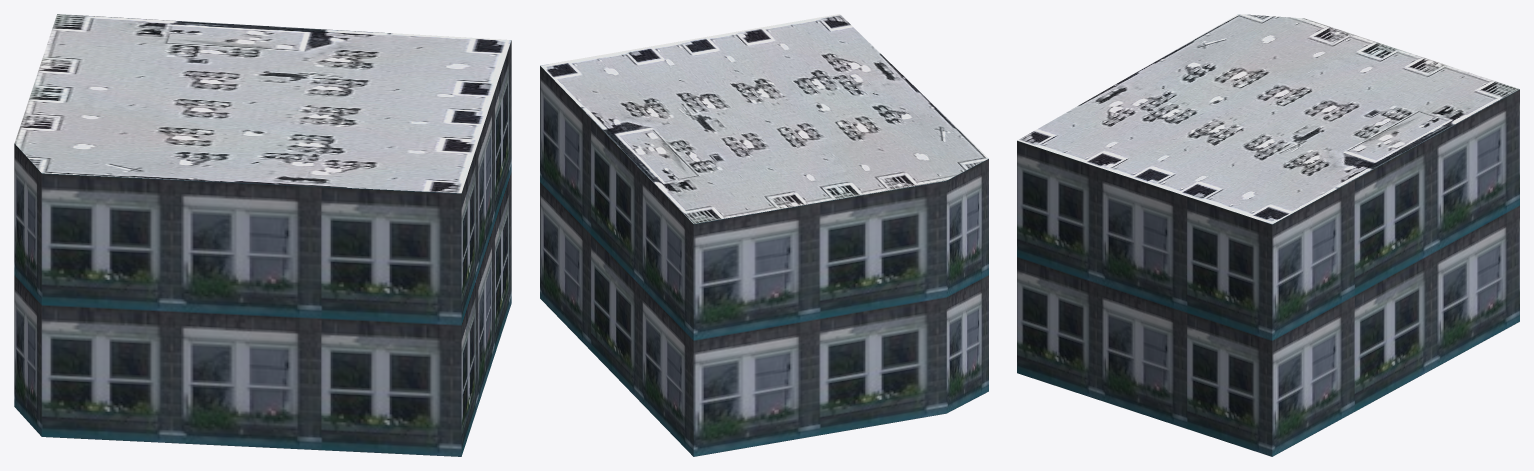
Rendered from ResTex__1077.fbx.
3 renders of one model, left to right at view 1: azimuth 30°, elevation 25°; view 2: azimuth 150°, elevation 25°; view 3: azimuth 270°, elevation 25°, orthographic. The views are drawn at different scales.
Visible parts, largest first — view 1: CityEngineMaterial_11_m, CityEngineMaterial_m; view 2: CityEngineMaterial_11_m, CityEngineMaterial_m; view 3: CityEngineMaterial_11_m, CityEngineMaterial_m.
Part boxes in pixels (<box>): CityEngineMaterial_11_m: <box>14,40,511,456</box>; CityEngineMaterial_m: <box>14,14,511,193</box>; CityEngineMaterial_11_m: <box>540,66,988,456</box>; CityEngineMaterial_m: <box>540,14,988,223</box>; CityEngineMaterial_11_m: <box>1017,89,1519,456</box>; CityEngineMaterial_m: <box>1017,14,1519,224</box>.
Bounding box in the file's own units: 11.65 × 6 × 11.76.
2 materials, 2 textured.
